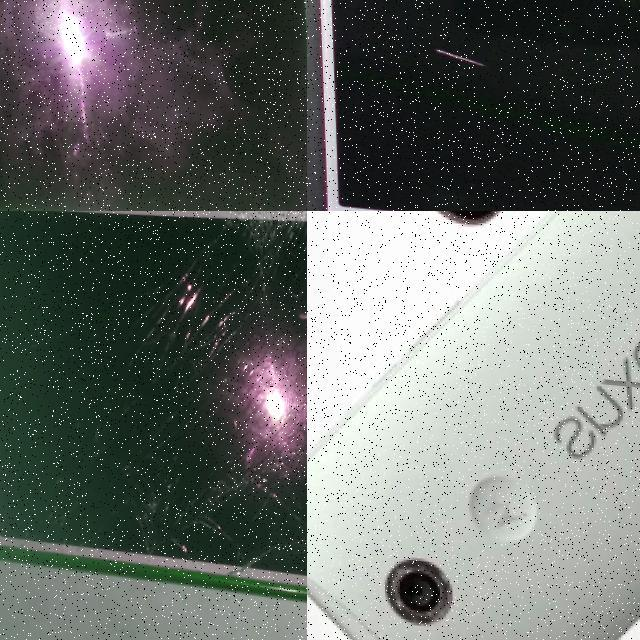scratch: (417, 33, 495, 69), (284, 211, 307, 331)
screen crack: (105, 212, 257, 383), (149, 442, 307, 602)
